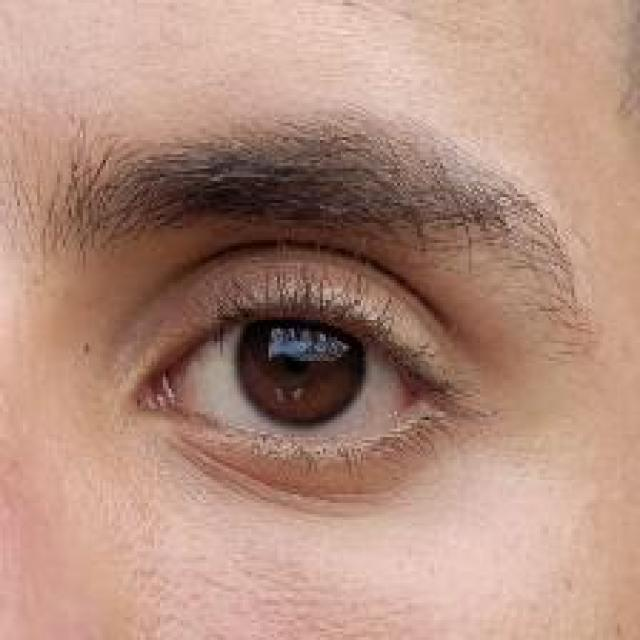Normal: (14, 184, 589, 547)
